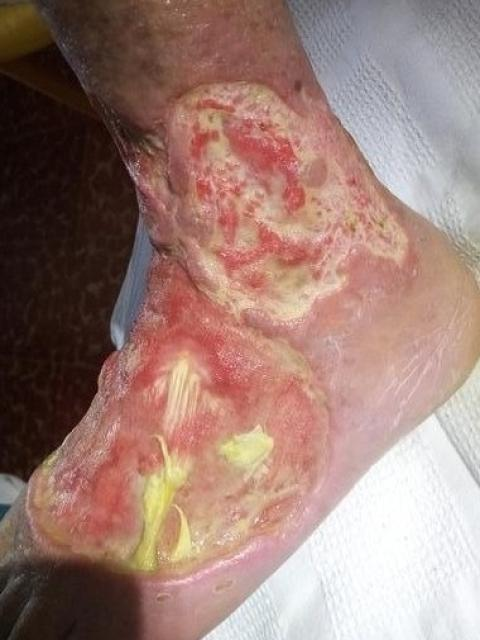wound: (27, 74, 408, 577)
